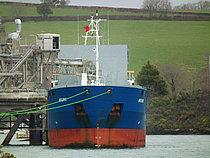Ship: (45, 11, 151, 151)
